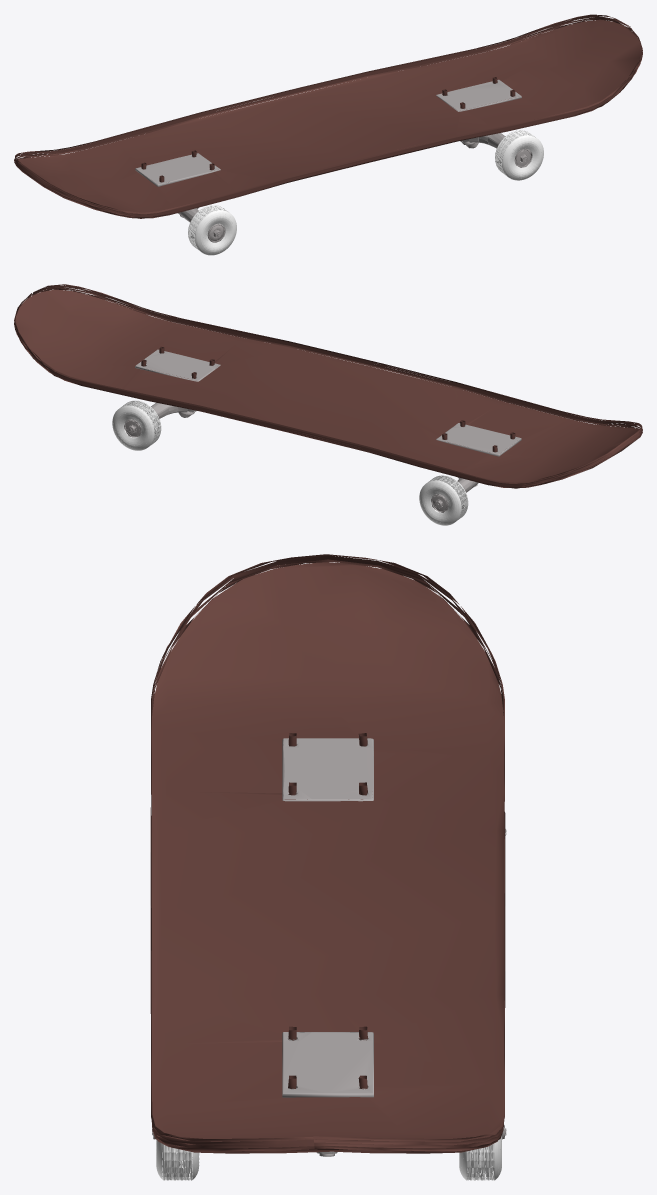
File: skate.glb
3 renders of one model, top to bottom at view 1: azimuth 30°, elevation 25°; view 2: azimuth 150°, elevation 25°; view 3: azimuth 270°, elevation 25°, orthographic. The views are drawn at different scales.
Visible parts, largest first — view 1: Skateboard, Skateboard1, Skateboard1_0.001, Skateboard1_2.001; view 2: Skateboard, Skateboard1, Skateboard1_0.001, Skateboard1_2.001; view 3: Skateboard, Skateboard1, Skateboard1_0.001, Skateboard1_2.001.
Boxes of the visible parts, x1,y1,x2,y2 form: Skateboard: [14, 14, 642, 218]; Skateboard1: [180, 79, 532, 255]; Skateboard1_0.001: [135, 153, 225, 242]; Skateboard1_2.001: [188, 130, 543, 254]; Skateboard: [14, 284, 642, 488]; Skateboard1: [112, 349, 478, 525]; Skateboard1_0.001: [436, 423, 521, 506]; Skateboard1_2.001: [113, 400, 467, 520]; Skateboard: [150, 554, 505, 1153]; Skateboard1: [152, 829, 506, 1180]; Skateboard1_0.001: [282, 738, 506, 833]; Skateboard1_2.001: [156, 1139, 501, 1180].
Size of the model in its own units: 8.63 by 1.24 by 2.21.
